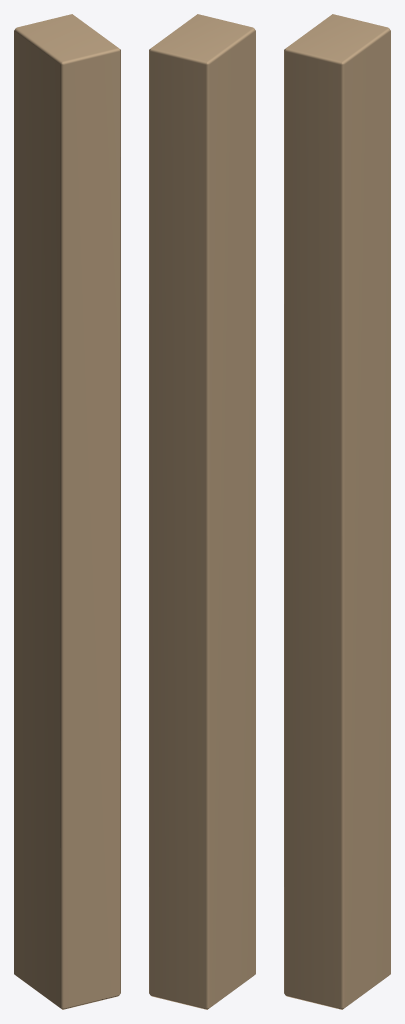
File: SM_pillar.glb
The picture shows the model from 3 angles, left to right: view 1: azimuth 30°, elevation 25°; view 2: azimuth 150°, elevation 25°; view 3: azimuth 330°, elevation 25°; orthographic projection.
Visible parts, largest first — view 1: SM_pillar; view 2: SM_pillar; view 3: SM_pillar.
Part boxes in pixels (<box>): SM_pillar: <box>14,14,120,1009</box>; SM_pillar: <box>149,14,255,1009</box>; SM_pillar: <box>284,14,390,1009</box>.
Size of the model in its own units: 0.1905 by 2.84 by 0.2662.
